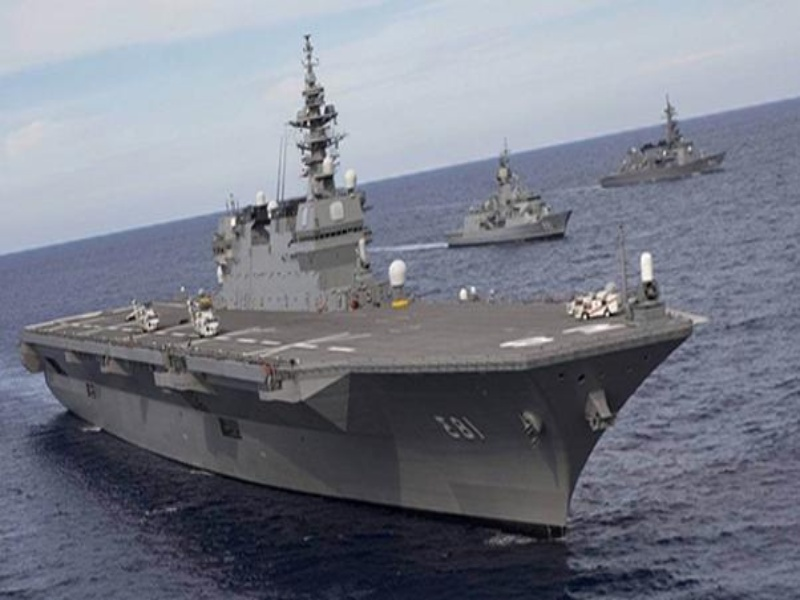carrier: (13, 112, 680, 526)
cruise: (438, 155, 578, 249), (602, 120, 716, 191)
